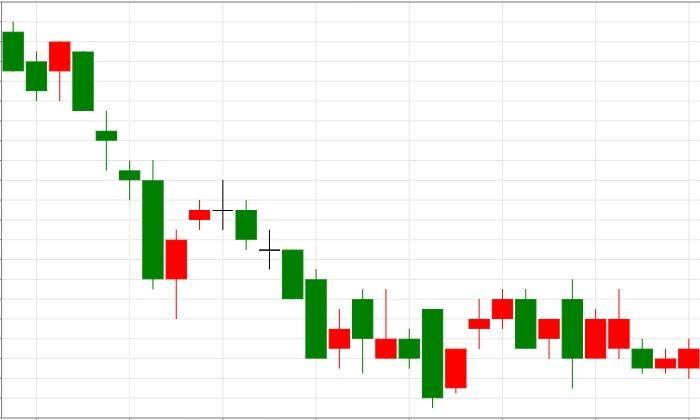bearish_engulfing_fall: (421, 289, 537, 408)
inverse_hammer_rise: (211, 179, 398, 374)
